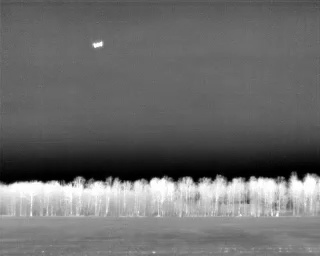DRONE: (88, 36, 108, 53)
